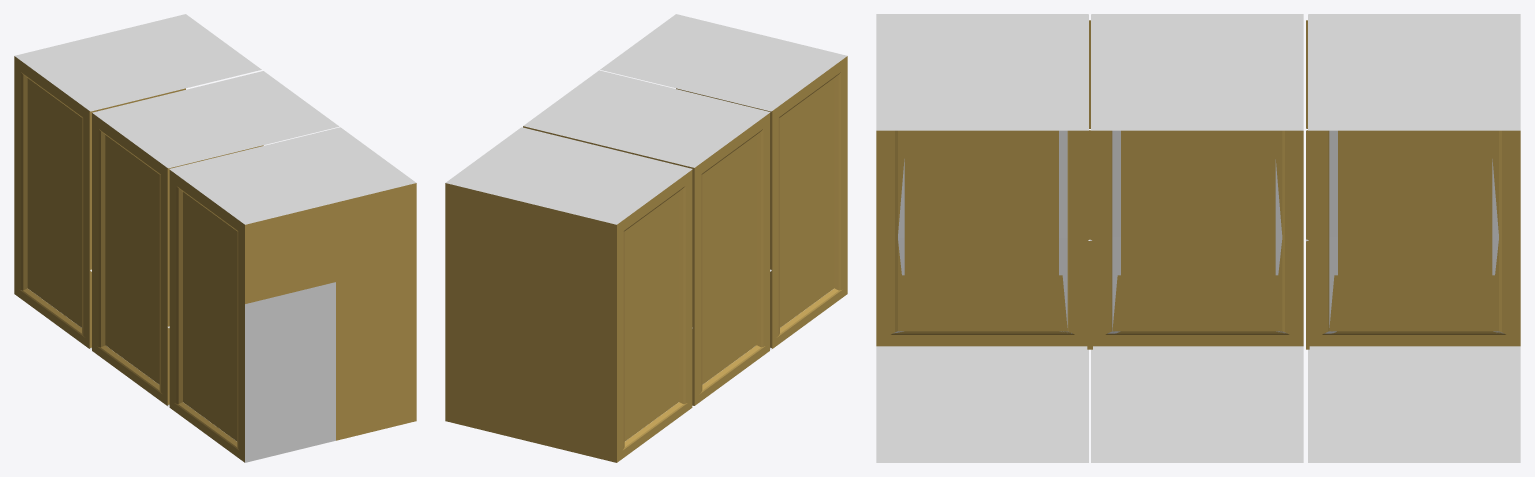
The model's file is kitchen .fbx.
The picture shows the model from 3 angles, left to right: view 1: azimuth 30°, elevation 25°; view 2: azimuth 150°, elevation 25°; view 3: azimuth 270°, elevation 25°; orthographic projection. The views are drawn at different scales.
Visible parts, largest first — view 1: kitchen.001; view 2: kitchen.001; view 3: kitchen.001.
Part boxes in pixels (<box>): kitchen.001: <box>14,14,416,462</box>; kitchen.001: <box>445,14,847,462</box>; kitchen.001: <box>876,14,1520,462</box>.
Size of the model in its own units: 7.22 by 9.57 by 16.82.
